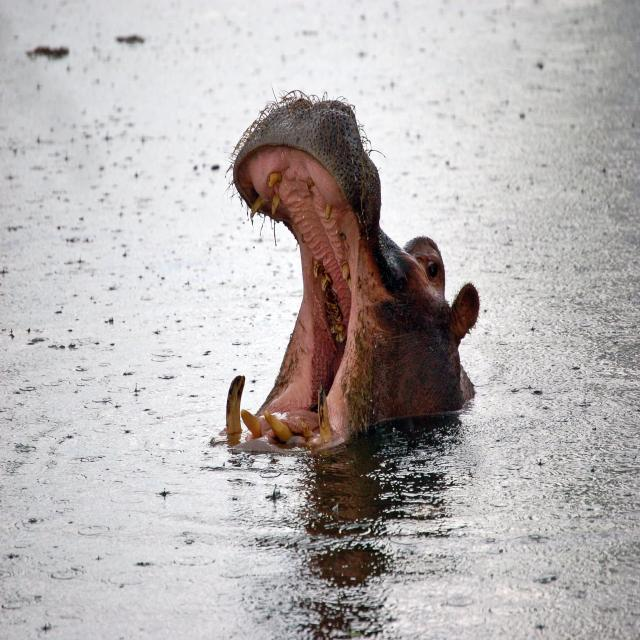Hippopotamus: (216, 80, 470, 468)
